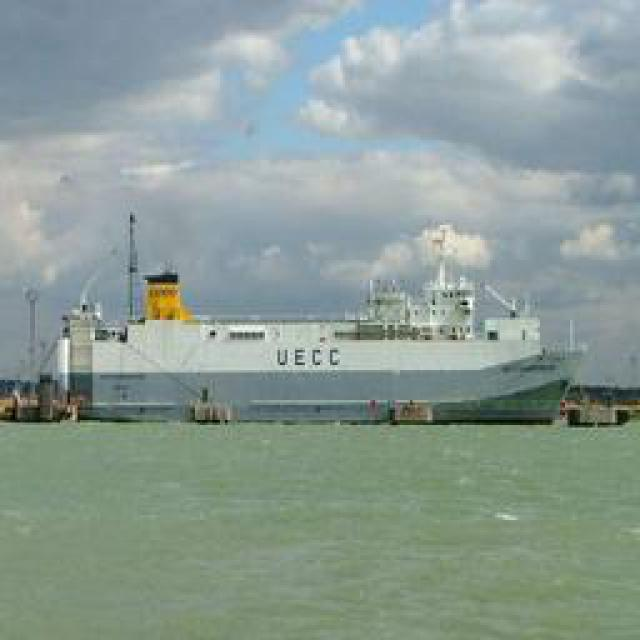Ship: (18, 256, 613, 426)
